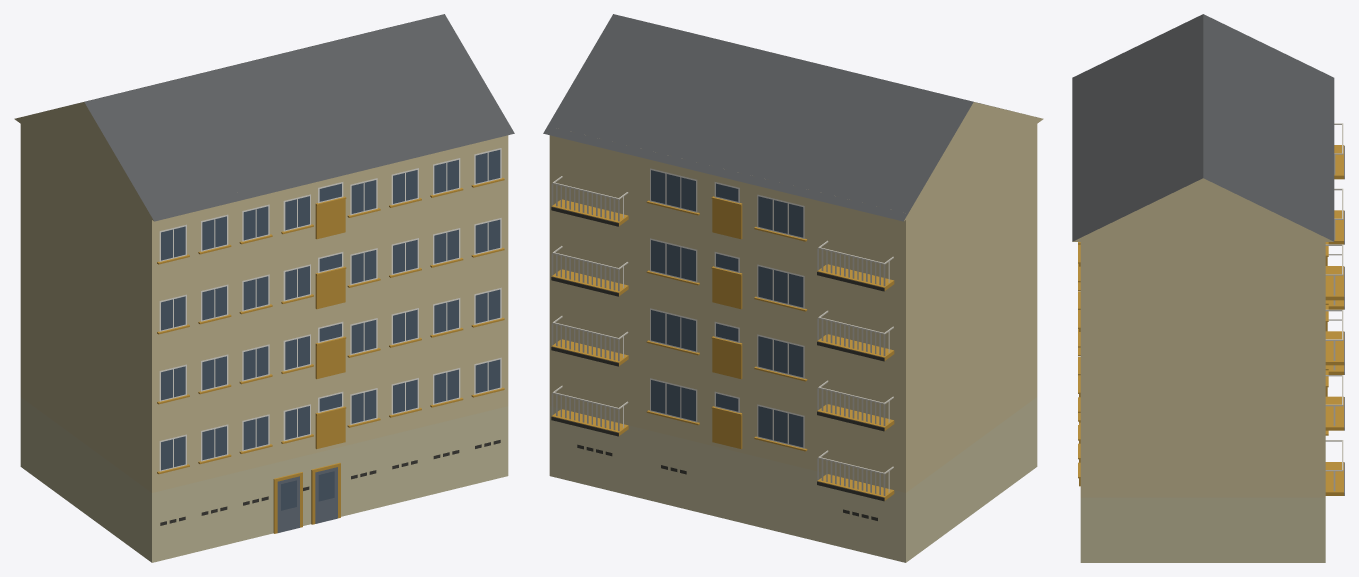
File: nw-peach-render-entrance-front__ochre-yellow__5__gable__long__solid.glb
3 renders of one model, left to right at view 1: azimuth 30°, elevation 25°; view 2: azimuth 150°, elevation 25°; view 3: azimuth 270°, elevation 25°, orthographic. The views are drawn at different scales.
Visible parts, largest first — view 1: nw-peach-render-entrance-front__ochre-yellow__5__gable__long; view 2: nw-peach-render-entrance-front__ochre-yellow__5__gable__long; view 3: nw-peach-render-entrance-front__ochre-yellow__5__gable__long.
Part boxes in pixels (x1,y1,x2,y2): nw-peach-render-entrance-front__ochre-yellow__5__gable__long: (14, 14, 514, 562); nw-peach-render-entrance-front__ochre-yellow__5__gable__long: (543, 14, 1043, 562); nw-peach-render-entrance-front__ochre-yellow__5__gable__long: (1072, 14, 1344, 562).
Bounding box in the file's own units: 16.08 × 17.62 × 11.27.
